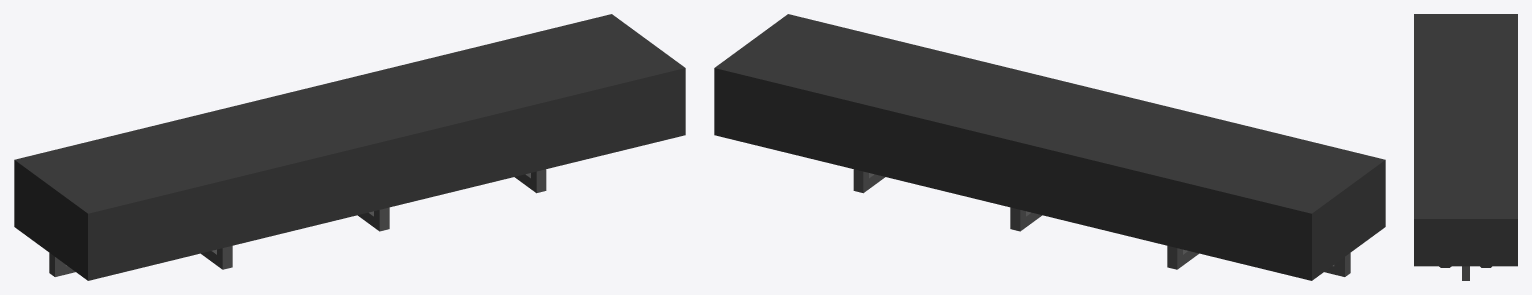
Rendered from Light_03.fbx.
3 renders of one model, left to right at view 1: azimuth 30°, elevation 25°; view 2: azimuth 150°, elevation 25°; view 3: azimuth 270°, elevation 25°, orthographic. The views are drawn at different scales.
Parts seen in each view (by area): view 1: Light_03; view 2: Light_03; view 3: Light_03.
Part boxes in pixels (bbox=[...]): Light_03: bbox=[14, 14, 685, 280]; Light_03: bbox=[714, 14, 1385, 280]; Light_03: bbox=[1414, 14, 1517, 280].
Size of the model in its own units: 96.65 by 14.09 by 20.67.
